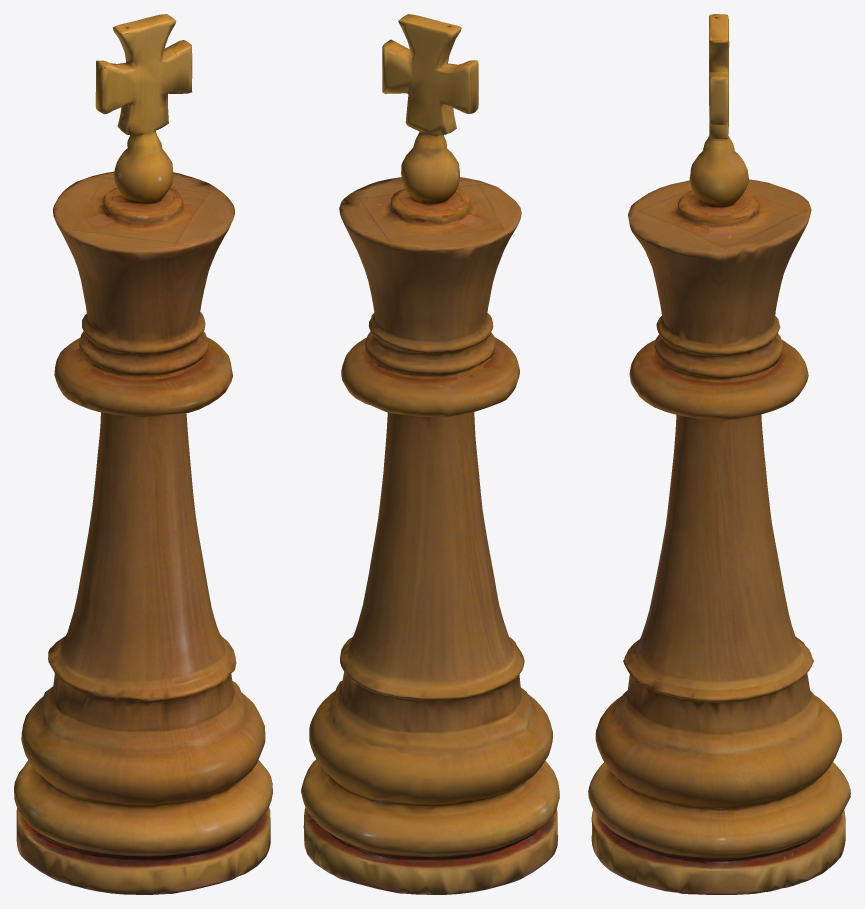
The model's file is chess_bishop.glb.
3 renders of one model, left to right at view 1: azimuth 30°, elevation 25°; view 2: azimuth 150°, elevation 25°; view 3: azimuth 270°, elevation 25°, orthographic.
Size of the model in its own units: 0.5788 by 2 by 0.5839.
1 material, 1 textured.
